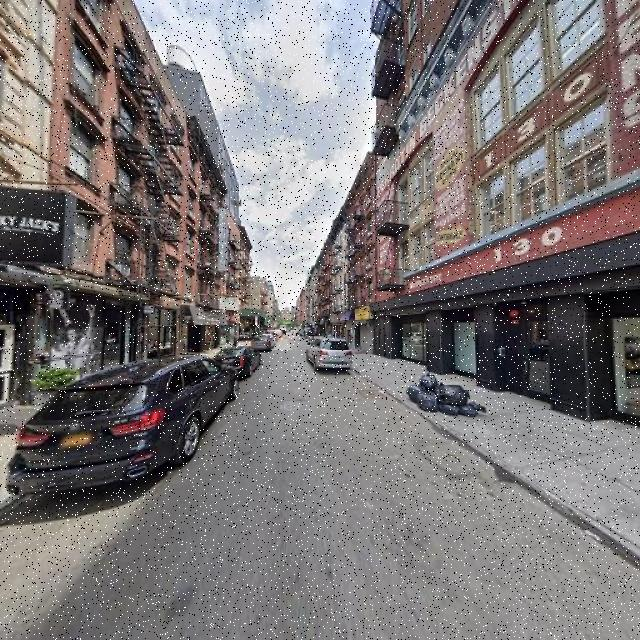Building: (378, 1, 640, 427), (52, 1, 185, 388), (1, 1, 44, 404)
